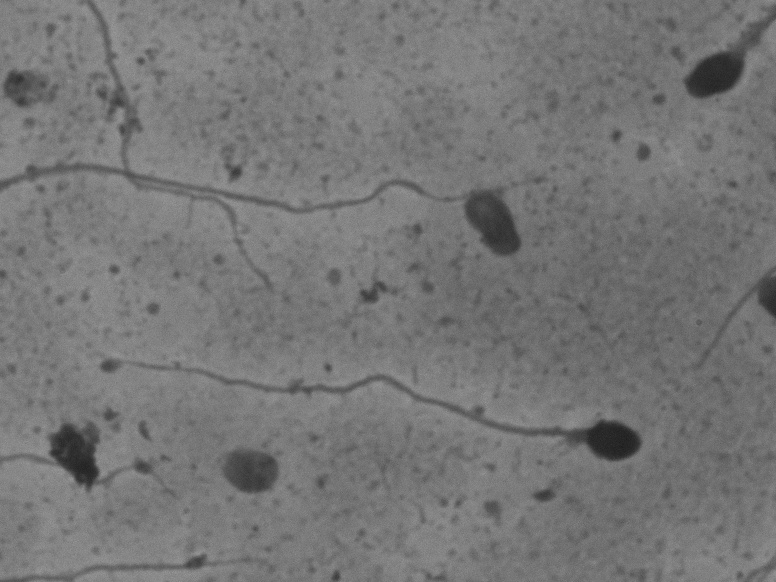Abnormal: (119, 341, 684, 474), (439, 159, 537, 294)
